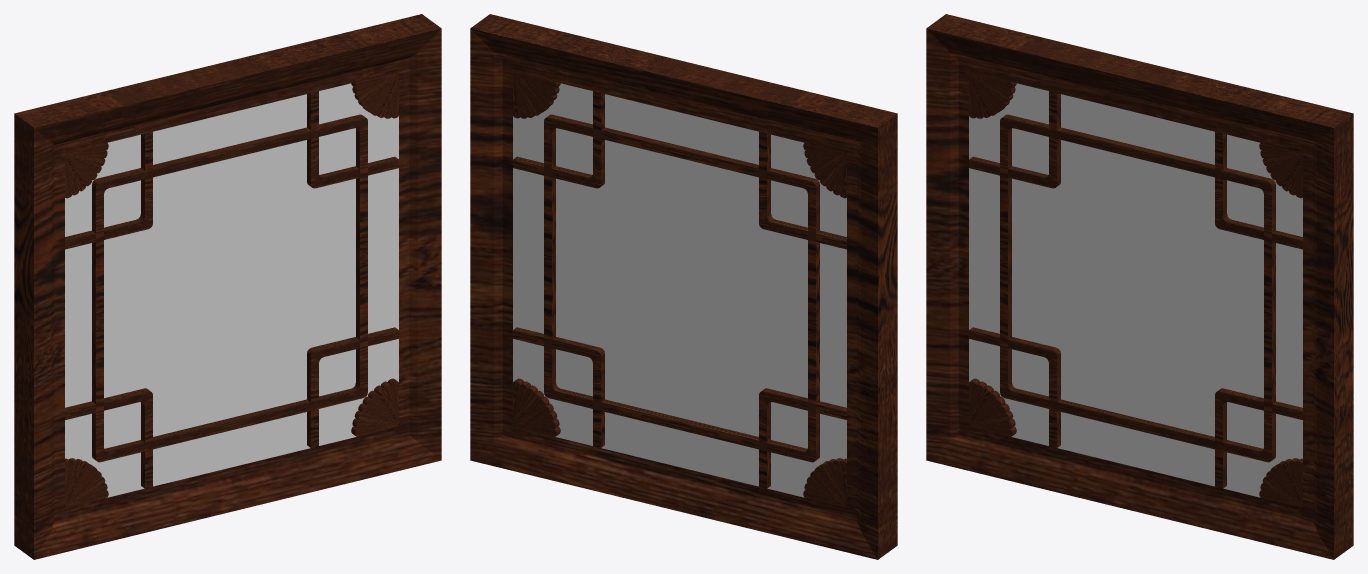
File: window_rect.fbx
3 views of the same model, side by side, from view 1: azimuth 30°, elevation 25°; view 2: azimuth 150°, elevation 25°; view 3: azimuth 330°, elevation 25° (orthographic).
Visible parts, largest first — view 1: window_rect, window_rect_glass, window_rect_corner; view 2: window_rect, window_rect_glass, window_rect_corner; view 3: window_rect, window_rect_glass, window_rect_corner.
Boxes of the visible parts, <box> form: window_rect: <box>14,14,441,559</box>; window_rect_glass: <box>65,83,398,497</box>; window_rect_corner: <box>65,71,398,507</box>; window_rect: <box>470,14,897,559</box>; window_rect_glass: <box>513,83,846,497</box>; window_rect_corner: <box>513,71,846,507</box>; window_rect: <box>926,14,1353,559</box>; window_rect_glass: <box>969,83,1302,497</box>; window_rect_corner: <box>969,71,1302,507</box>.
Size of the model in its own units: 178 by 180 by 14.99.
